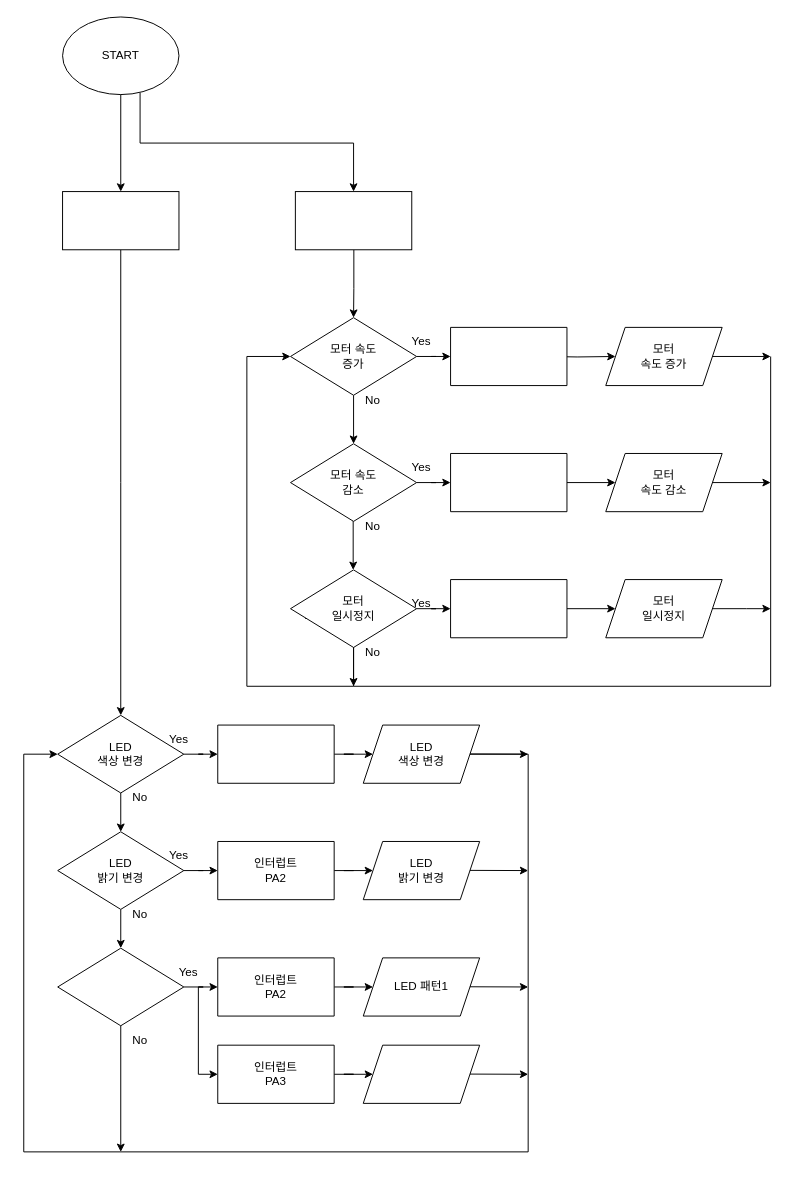
Image size: 795x1177. Some labels were removed from this diagram. The box of each missing label's shape, as (x1, y1, x2, y2) in pixels:
LED 제어: (62, 191, 179, 250)
LED 패턴 변경: (57, 947, 184, 1026)
LED 패턴2: (362, 1044, 480, 1103)
모터 제어: (294, 191, 412, 250)
인터럽트 PA1: (217, 724, 334, 783)
인터럽트 PWM 듀티 비 0%: (450, 579, 567, 638)
인터럽트 PWM 듀티 비 감소: (450, 453, 567, 512)
인터럽트 PWM 듀티 비 증가: (450, 326, 567, 386)
